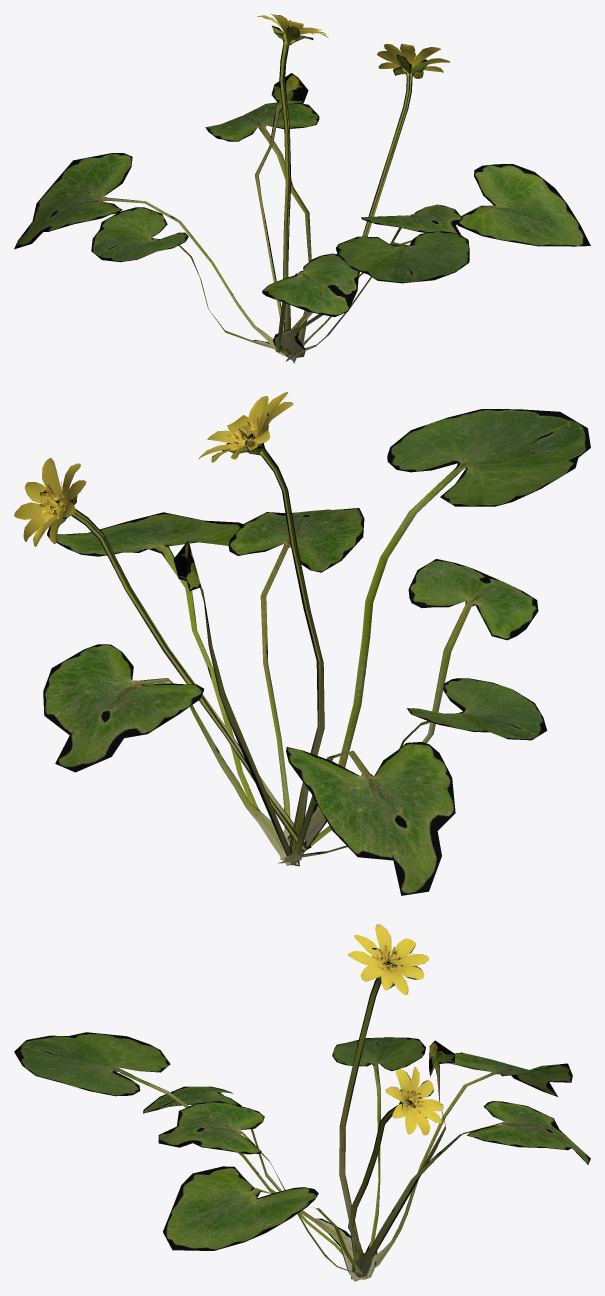
Rendered from celandine_01_3.gltf.
3 renders of one model, top to bottom at view 1: azimuth 30°, elevation 25°; view 2: azimuth 150°, elevation 25°; view 3: azimuth 270°, elevation 25°, orthographic. The views are drawn at different scales.
Parts seen in each view (by area): view 1: celandine_01_d_LOD0; view 2: celandine_01_d_LOD0; view 3: celandine_01_d_LOD0.
Part boxes in pixels (x1=…): celandine_01_d_LOD0: x1=14, y1=14, x2=590, y2=363; celandine_01_d_LOD0: x1=14, y1=392, x2=590, y2=895; celandine_01_d_LOD0: x1=14, y1=924, x2=590, y2=1281.
Bounding box in the file's own units: 0.1867 × 0.1495 × 0.2229.
1 material, 1 textured.
